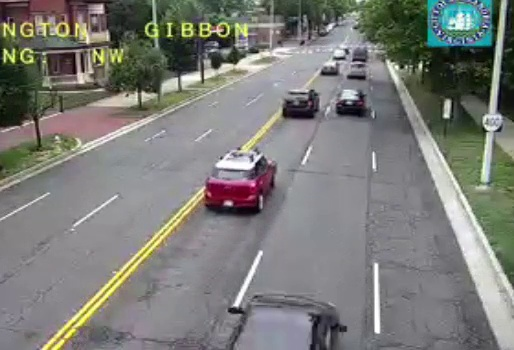car: (204, 150, 278, 210), (282, 89, 318, 116), (336, 89, 365, 114)
